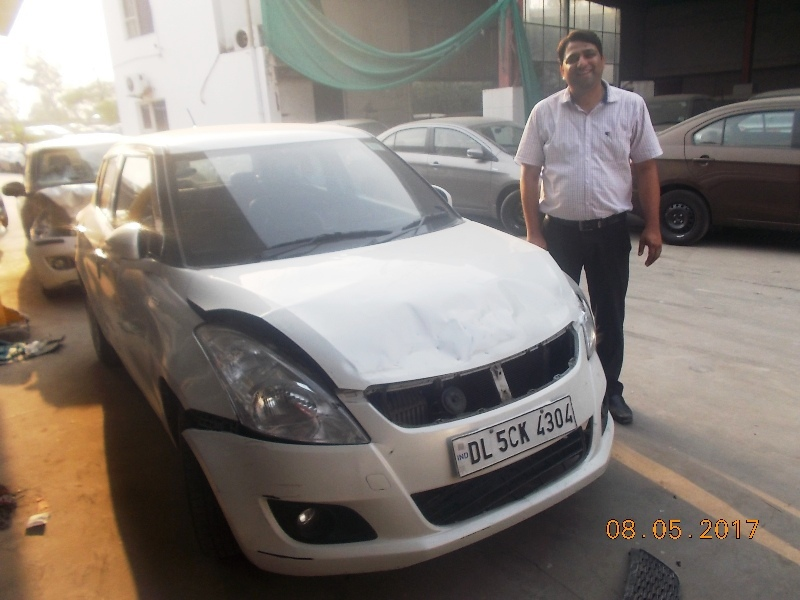Dislocation: (178, 401, 246, 454)
